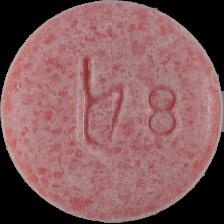51285-127: (0, 0, 224, 224)
